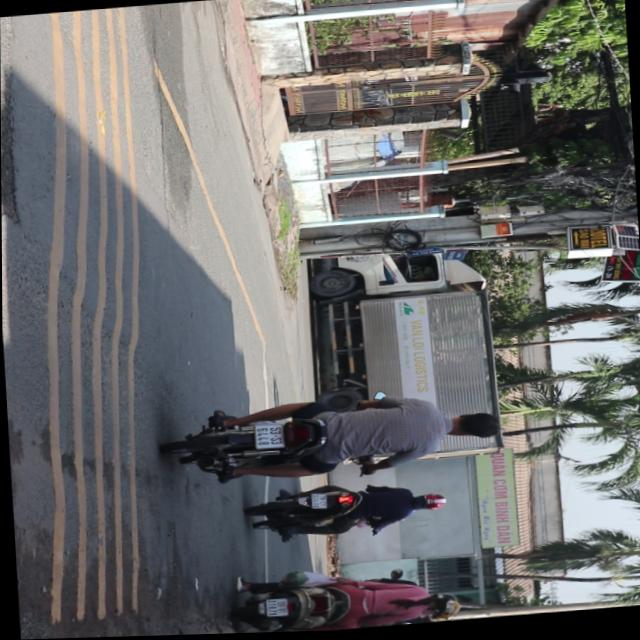helmet: (427, 601, 462, 621), (414, 492, 447, 513), (426, 591, 461, 609)
licenseplate: (165, 381, 506, 490), (227, 557, 463, 635), (247, 475, 451, 543)
motorcyclist: (447, 409, 502, 443)
nohelmet: (255, 424, 284, 450), (267, 599, 288, 617), (312, 493, 327, 510)
